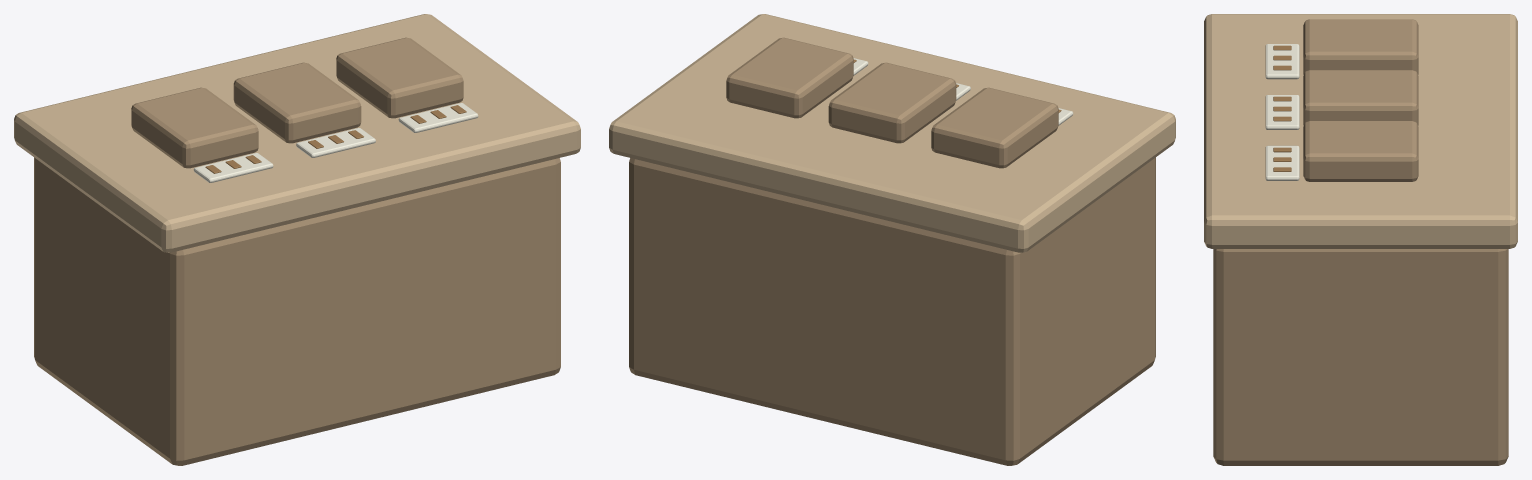
The model's file is dating-table.glb.
3 views of the same model, side by side, from view 1: azimuth 30°, elevation 25°; view 2: azimuth 150°, elevation 25°; view 3: azimuth 270°, elevation 25° (orthographic).
Parts seen in each view (by area): view 1: Table, Stone top, Sample tile.001, Sample tile.002, Sample tile, Record label, Record label.002, Record label.001; view 2: Table, Stone top, Sample tile.001, Sample tile.002, Sample tile; view 3: Table, Stone top, Sample tile.002, Sample tile.001, Sample tile, Record label, Record label.002, Record label.001.
Part boxes in pixels (x1,y1,x2,y2): Table: (34,157,560,465); Stone top: (14,14,580,252); Sample tile.001: (233,62,361,143); Sample tile.002: (336,37,463,118); Sample tile: (131,87,258,168); Record label: (193,153,273,182); Record label.002: (398,103,478,132); Record label.001: (296,128,375,157); Table: (629,157,1155,465); Stone top: (609,14,1175,252); Sample tile.001: (828,62,956,143); Sample tile.002: (726,37,853,118); Sample tile: (931,87,1058,168); Table: (1213,249,1508,465); Stone top: (1204,14,1517,248); Sample tile.002: (1303,121,1418,181); Sample tile.001: (1303,70,1418,125); Sample tile: (1303,19,1418,74); Record label: (1265,44,1299,79); Record label.002: (1265,145,1299,180); Record label.001: (1265,95,1299,129).
Size of the model in its own units: 1.88 by 1.21 by 1.2.
